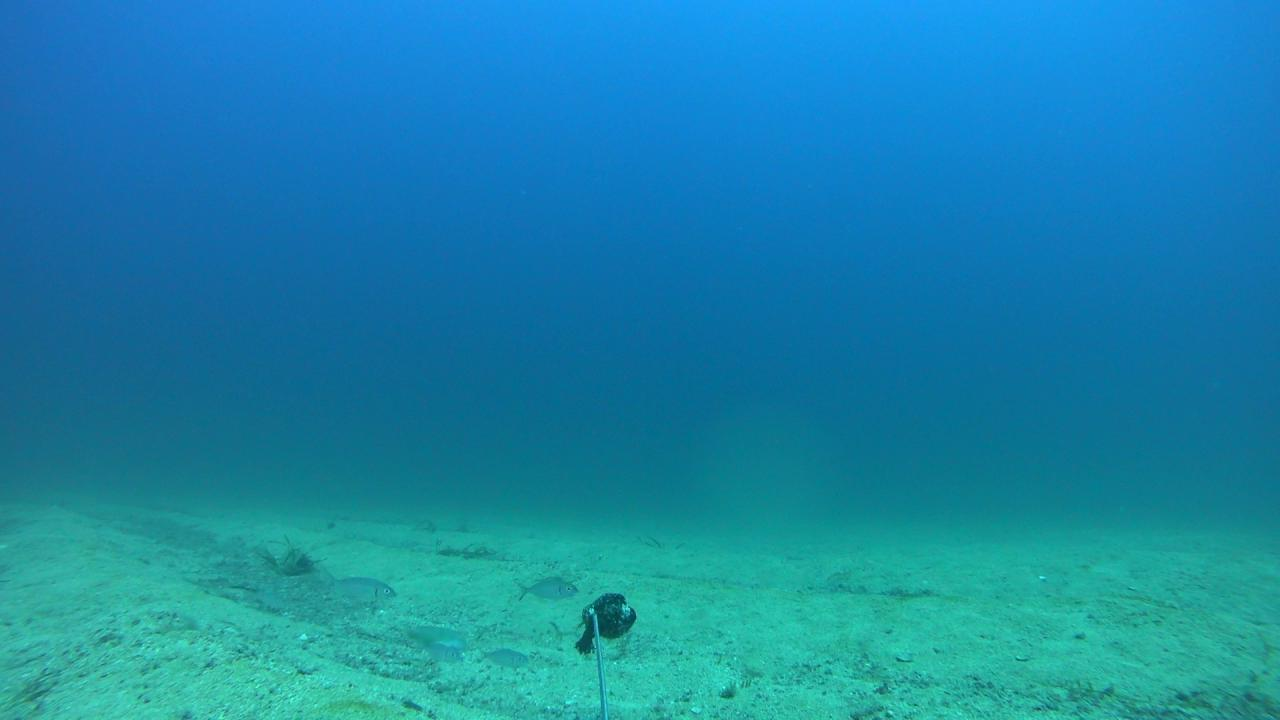pagellus: (318, 564, 396, 602), (475, 642, 531, 672), (514, 578, 578, 603)
